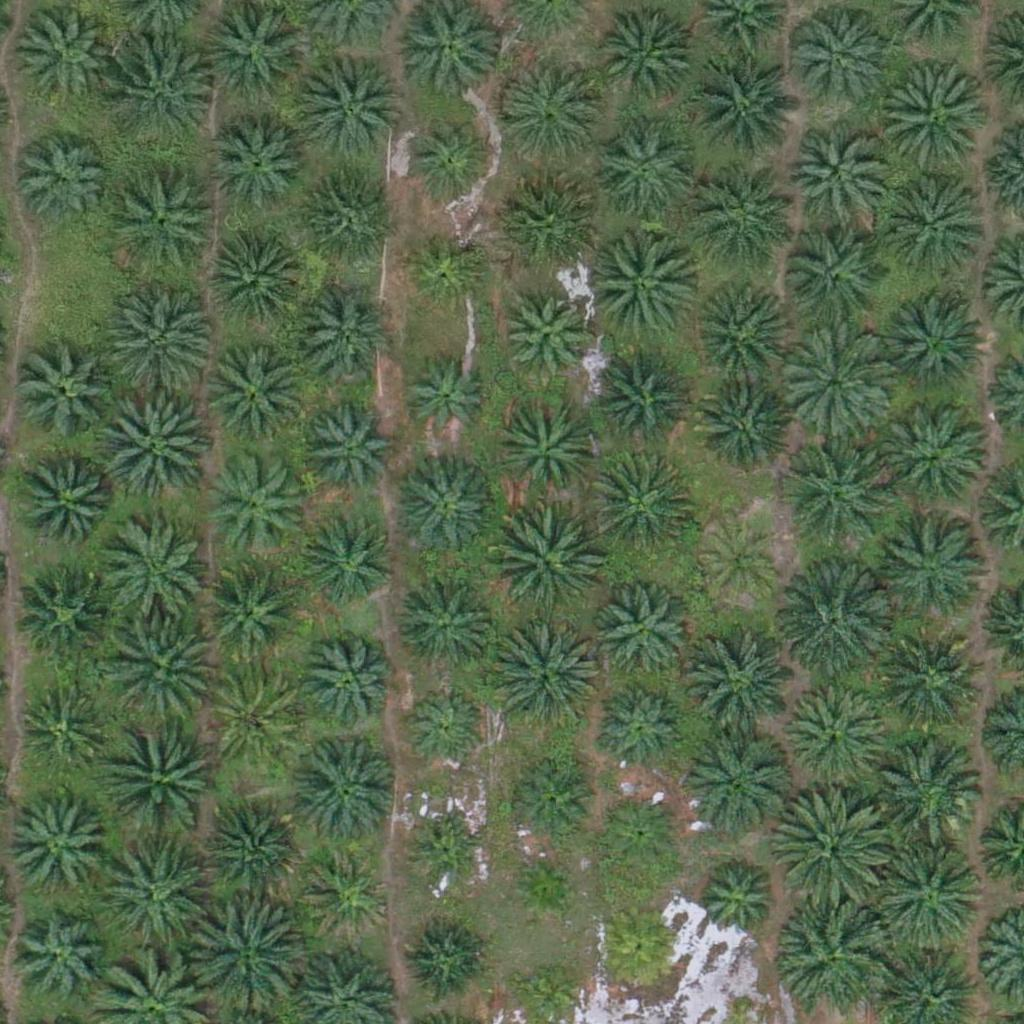Kelapa_Sawit: (103, 36, 216, 150), (107, 172, 220, 286), (94, 840, 207, 954), (777, 440, 890, 554), (103, 612, 216, 726), (100, 284, 213, 397), (578, 226, 691, 339), (877, 64, 990, 177), (780, 897, 893, 1010), (870, 733, 983, 846), (777, 566, 890, 679), (487, 619, 600, 732), (488, 507, 601, 620), (97, 520, 210, 633), (103, 391, 216, 504), (873, 834, 985, 948), (775, 786, 887, 900), (105, 715, 217, 829), (294, 53, 406, 166), (498, 53, 610, 166), (687, 53, 799, 166), (778, 325, 890, 438), (879, 168, 991, 281), (186, 902, 298, 1015), (586, 449, 698, 562), (288, 733, 400, 846), (684, 632, 796, 745), (679, 725, 791, 838), (15, 341, 115, 442), (10, 134, 110, 235), (13, 9, 113, 110), (211, 229, 311, 330), (211, 112, 311, 213), (295, 176, 395, 277), (300, 285, 400, 386), (510, 172, 610, 273), (592, 119, 692, 220), (583, 348, 683, 449), (686, 279, 786, 380), (696, 179, 796, 280), (790, 6, 890, 107), (787, 122, 887, 223), (885, 287, 985, 388), (11, 908, 111, 1009), (786, 687, 886, 788), (591, 581, 691, 682), (495, 400, 595, 501), (393, 460, 493, 561), (395, 573, 495, 674), (297, 632, 397, 733), (203, 450, 303, 551), (200, 560, 300, 661), (207, 343, 307, 443), (598, 5, 698, 105), (780, 229, 880, 329), (5, 799, 105, 899), (201, 803, 301, 903), (885, 406, 985, 506), (885, 523, 985, 623), (877, 636, 977, 736), (687, 376, 787, 476), (206, 669, 306, 769), (17, 451, 117, 551), (17, 565, 117, 665), (595, 901, 683, 990), (404, 224, 492, 312), (404, 111, 492, 199), (499, 292, 587, 380), (595, 788, 683, 876), (696, 519, 784, 607), (400, 686, 488, 774), (303, 518, 391, 606), (302, 409, 390, 497), (16, 684, 104, 772), (597, 684, 684, 773), (399, 356, 486, 444), (303, 851, 390, 939), (402, 915, 489, 1003), (691, 856, 778, 944), (506, 758, 593, 846), (506, 850, 581, 926), (412, 821, 487, 896)
